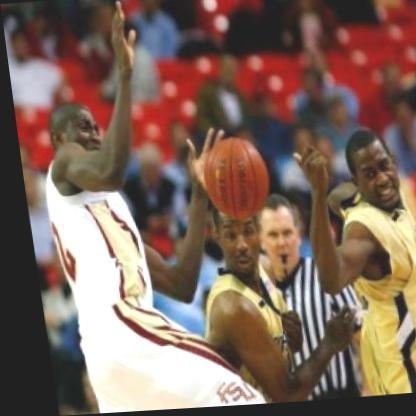basketball: (190, 134, 271, 231)
